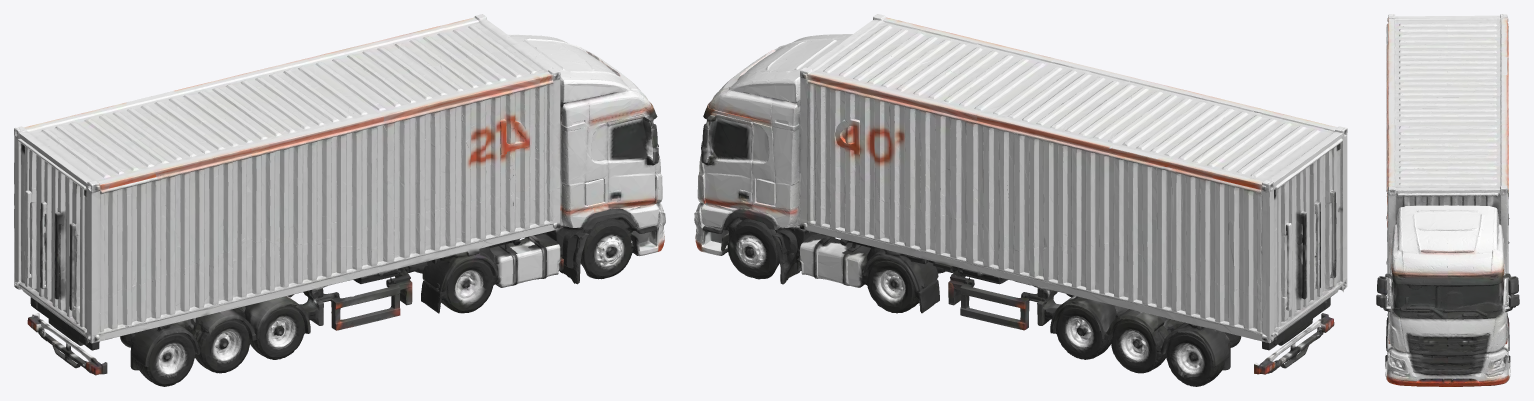
The picture shows the model from 3 angles, left to right: view 1: azimuth 30°, elevation 25°; view 2: azimuth 150°, elevation 25°; view 3: azimuth 270°, elevation 25°; orthographic projection. The views are drawn at different scales.
Parts seen in each view (by area): view 1: tripo_node_f64e337c-4533-414b-8e97-1ee30d6ba368; view 2: tripo_node_f64e337c-4533-414b-8e97-1ee30d6ba368; view 3: tripo_node_f64e337c-4533-414b-8e97-1ee30d6ba368.
Part boxes in pixels (<box>): tripo_node_f64e337c-4533-414b-8e97-1ee30d6ba368: <box>14,14,665,386</box>; tripo_node_f64e337c-4533-414b-8e97-1ee30d6ba368: <box>694,14,1347,386</box>; tripo_node_f64e337c-4533-414b-8e97-1ee30d6ba368: <box>1376,14,1519,386</box>.
Bounding box in the file's own units: 1 × 0.3638 × 0.2762.
1 material, 1 textured.
